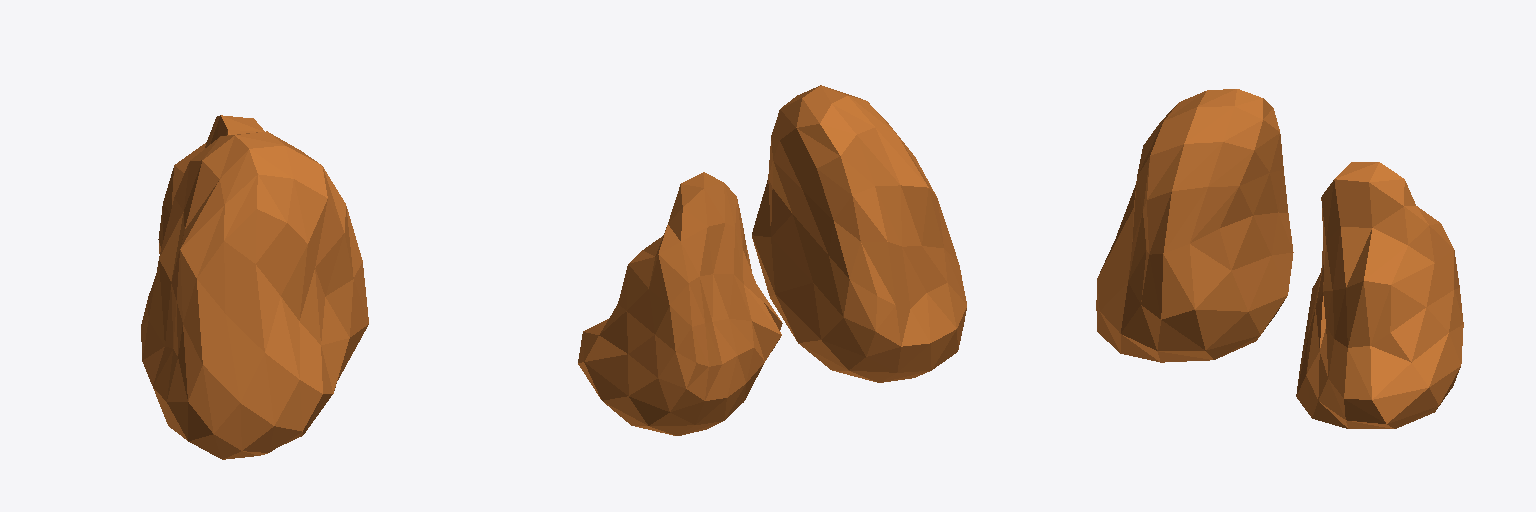
File: rocks1.obj
The picture shows the model from 3 angles: view 1: azimuth 30°, elevation 25°; view 2: azimuth 150°, elevation 25°; view 3: azimuth 270°, elevation 25°; orthographic projection.
Parts seen in each view (by area): view 1: Cube, Cube.001; view 2: Cube, Cube.001; view 3: Cube, Cube.001.
Boxes of the visible parts, x1,y1,x2,y2 form: Cube: [141, 131, 368, 459]; Cube.001: [158, 115, 264, 253]; Cube: [752, 85, 966, 382]; Cube.001: [578, 172, 782, 435]; Cube: [1096, 89, 1293, 362]; Cube.001: [1296, 162, 1463, 428].
Size of the model in its own units: 0.7911 by 0.7972 by 0.9045.